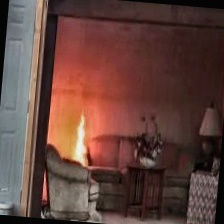fire: (62, 107, 97, 162)
